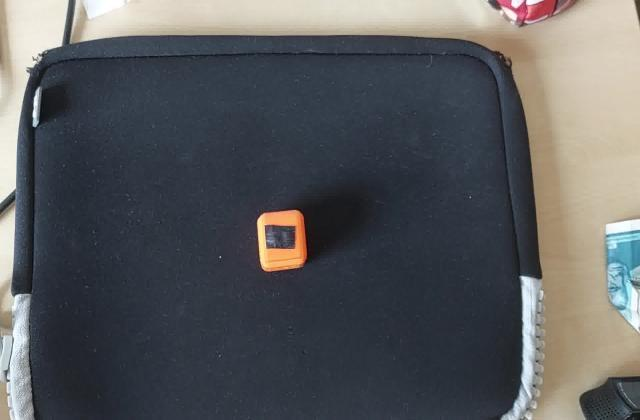black: (262, 222, 300, 254)
sticker: (255, 207, 311, 275)
